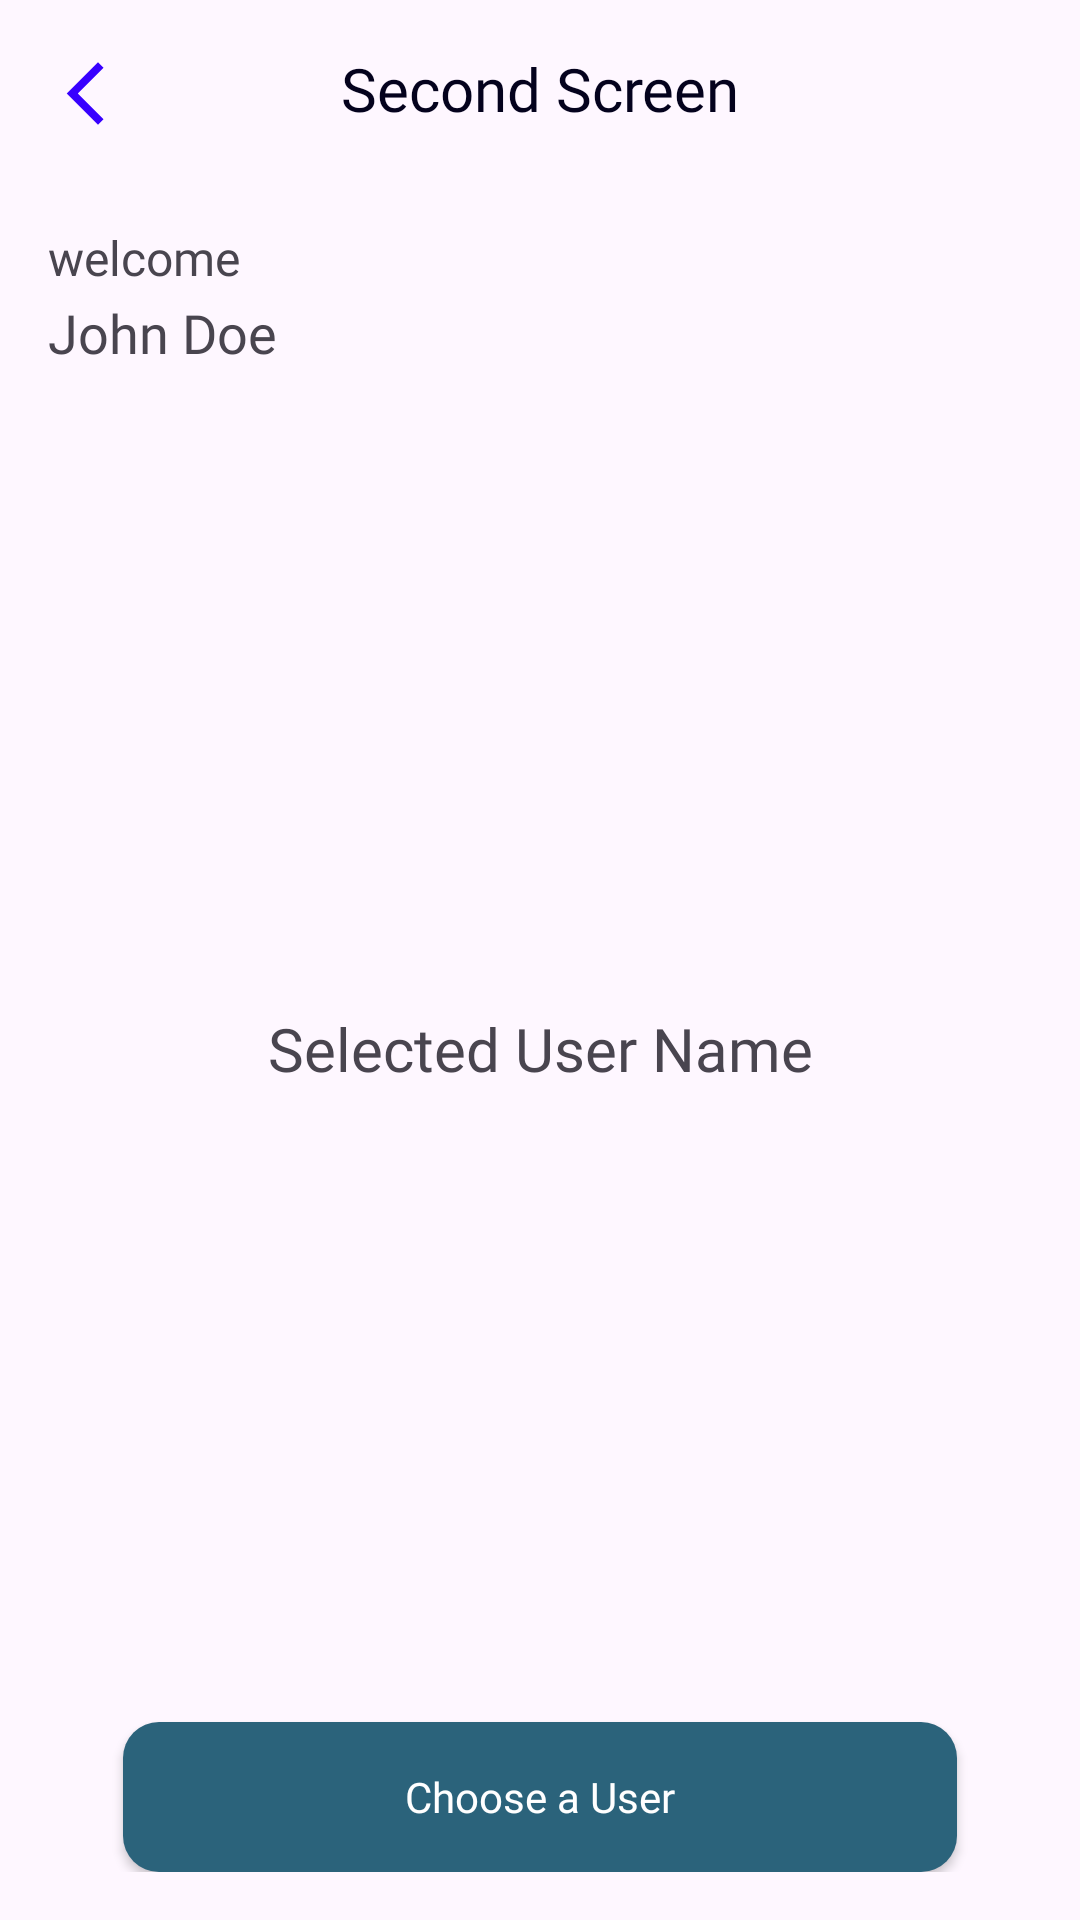

Screen size 1080w x 1920h. Icon name, then its center in pixels as [x,y]:
back: [85,93]
